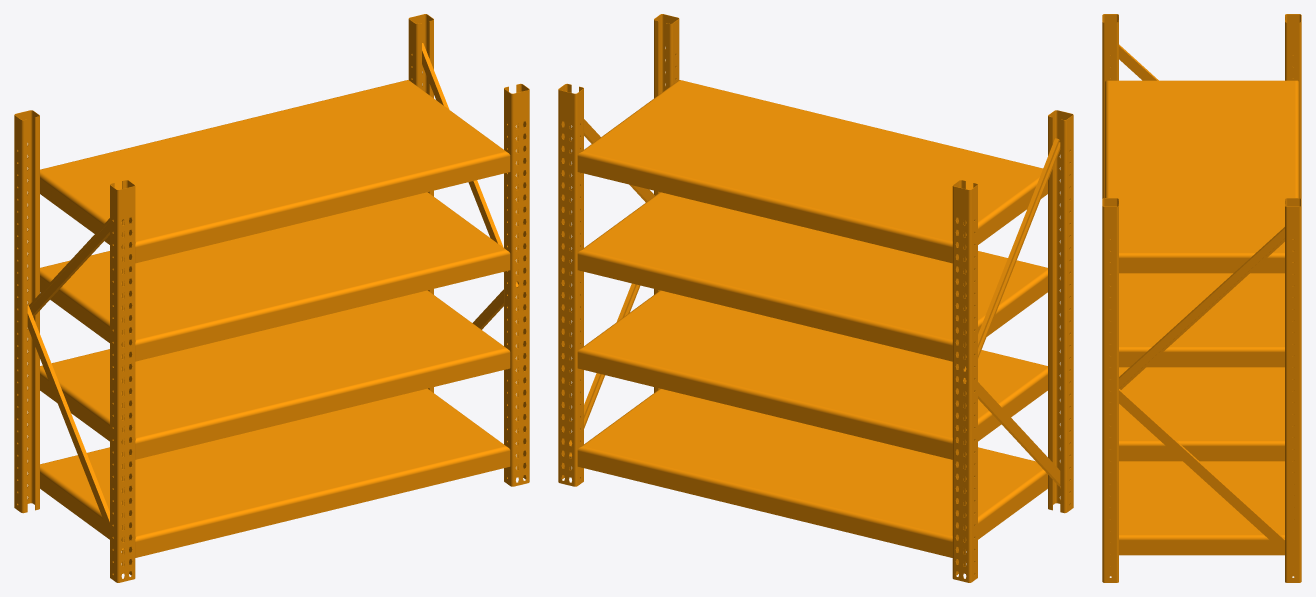
3 renders of one model, left to right at view 1: azimuth 30°, elevation 25°; view 2: azimuth 150°, elevation 25°; view 3: azimuth 270°, elevation 25°, orthographic. The views are drawn at different scales.
Visible parts, largest first — view 1: COMPOUND.001; view 2: COMPOUND.001; view 3: COMPOUND.001.
Boxes of the visible parts, x1,y1,x2,y2 form: COMPOUND.001: (14,14,529,582); COMPOUND.001: (558,14,1073,582); COMPOUND.001: (1102,14,1301,582).
Bounding box in the file's own units: 1100 × 1000 × 480.
